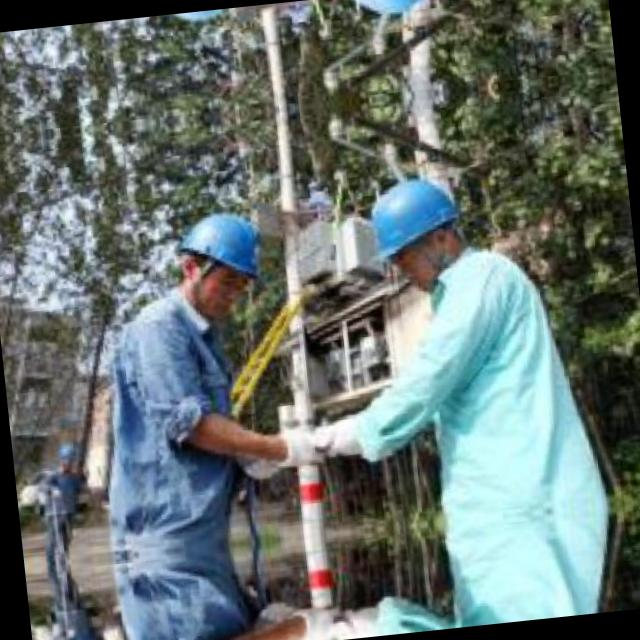helmet: (352, 160, 475, 290), (166, 197, 274, 318), (333, 0, 449, 32)
